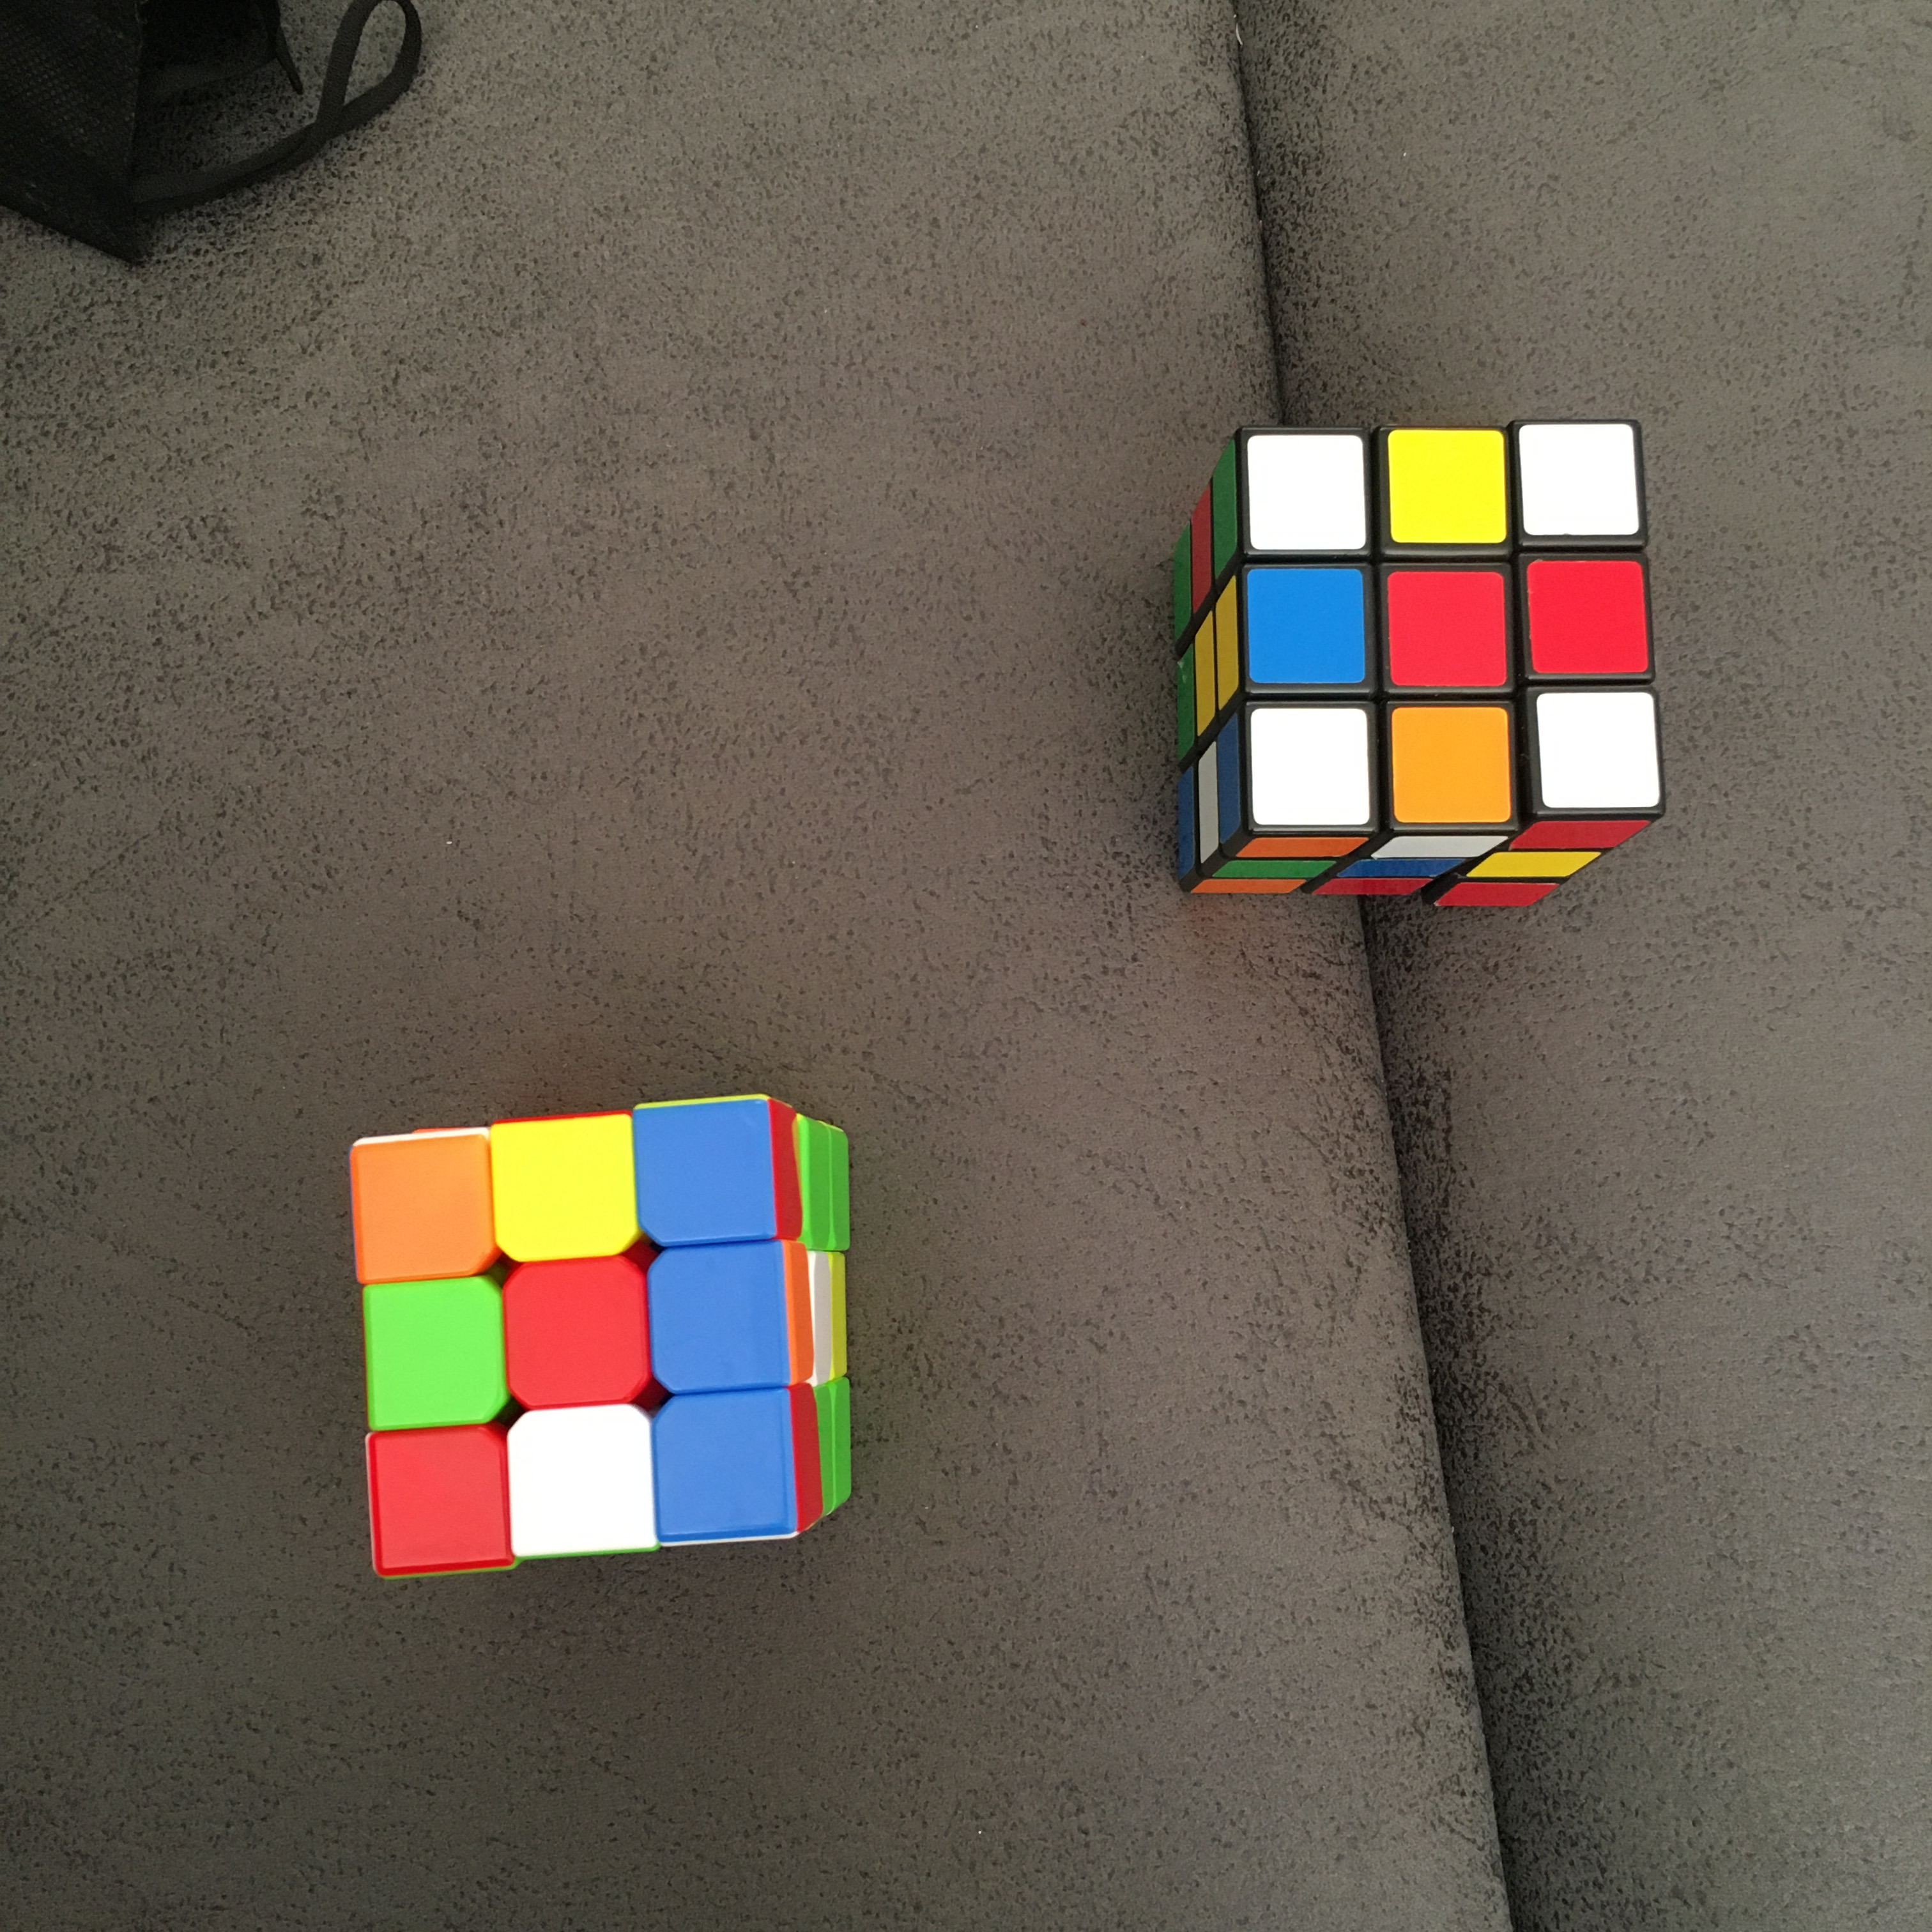face: (352, 1101, 803, 1567), (1239, 415, 1664, 829)
